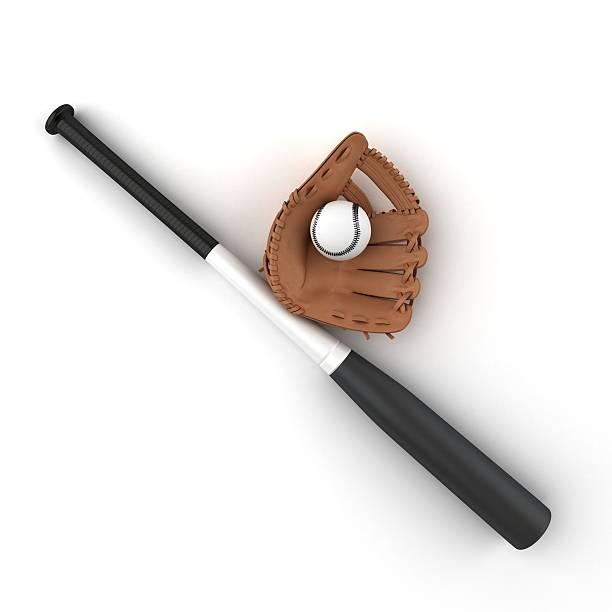bita: (44, 109, 543, 547)
